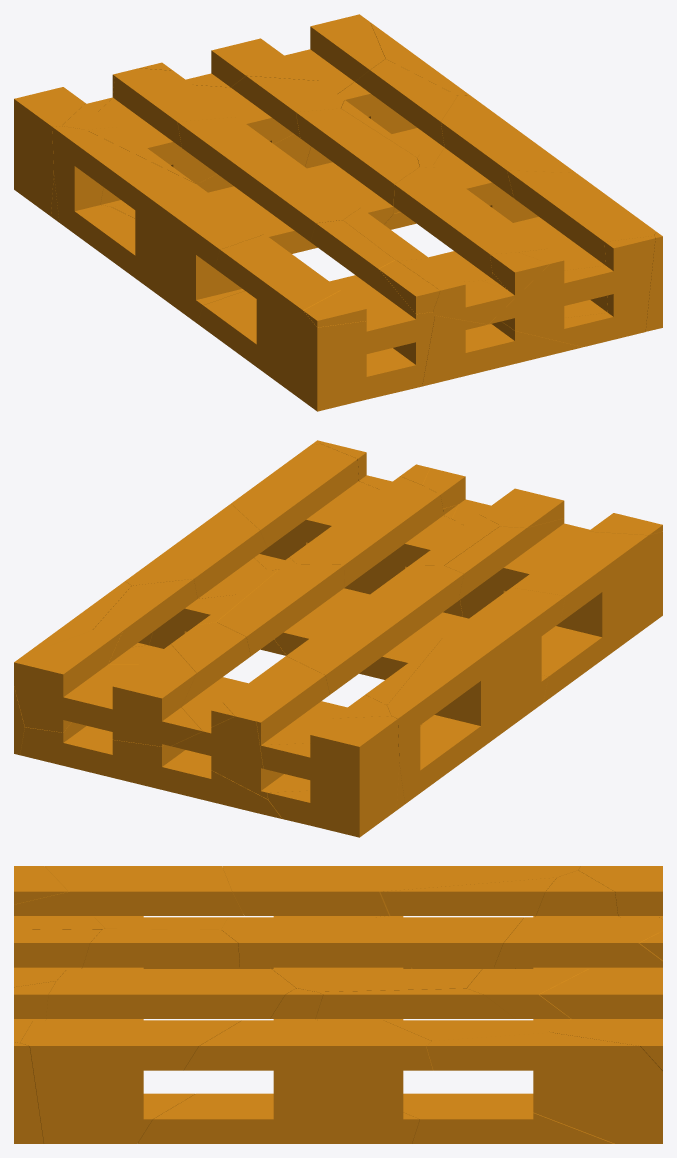
Rendered from PalletCellCrack01.fbx.
3 views of the same model, one above another, from view 1: azimuth 30°, elevation 25°; view 2: azimuth 150°, elevation 25°; view 3: azimuth 270°, elevation 25° (orthographic). The views are drawn at different scales.
Visible parts, largest first — view 1: Pallet_cell.016, Pallet_cell.005, Pallet_cell.010, Pallet_cell.002, Pallet_cell.003, Pallet_cell.007, Pallet_cell.006, Pallet_cell.015, Pallet_cell.014, Pallet_cell, Pallet_cell.012, Pallet_cell.013 (+5 smaller); view 2: Pallet_cell.002, Pallet_cell.016, Pallet_cell.010, Pallet_cell.005, Pallet_cell.003, Pallet_cell.015, Pallet_cell.012, Pallet_cell.004, Pallet_cell.006, Pallet_cell.014, Pallet_cell.013, Pallet_cell.011 (+3 smaller); view 3: Pallet_cell.002, Pallet_cell.006, Pallet_cell.010, Pallet_cell.011, Pallet_cell.014, Pallet_cell.003, Pallet_cell.016, Pallet_cell.005, Pallet_cell.015, Pallet_cell.013, Pallet_cell.012, Pallet_cell.009 (+3 smaller).
Part boxes in pixels (x1,y1,x2,y2): Pallet_cell.016: [197, 220, 434, 411]; Pallet_cell.005: [52, 126, 264, 323]; Pallet_cell.010: [86, 108, 419, 253]; Pallet_cell.002: [343, 167, 655, 330]; Pallet_cell.003: [51, 68, 344, 222]; Pallet_cell.007: [482, 236, 655, 346]; Pallet_cell.006: [417, 95, 575, 232]; Pallet_cell.015: [186, 14, 385, 94]; Pallet_cell.014: [305, 59, 457, 168]; Pallet_cell: [422, 315, 582, 386]; Pallet_cell.012: [14, 73, 116, 216]; Pallet_cell.013: [398, 252, 549, 324]; Pallet_cell.002: [231, 443, 499, 594]; Pallet_cell.016: [444, 518, 662, 702]; Pallet_cell.010: [217, 564, 468, 705]; Pallet_cell.005: [387, 587, 565, 803]; Pallet_cell.003: [171, 622, 404, 810]; Pallet_cell.015: [14, 630, 202, 746]; Pallet_cell.012: [256, 716, 399, 837]; Pallet_cell.004: [20, 722, 282, 818]; Pallet_cell.006: [125, 504, 296, 647]; Pallet_cell.014: [92, 569, 286, 664]; Pallet_cell.013: [422, 468, 539, 525]; Pallet_cell.011: [14, 581, 131, 755]; Pallet_cell.002: [20, 929, 295, 1143]; Pallet_cell.006: [137, 988, 433, 1143]; Pallet_cell.010: [221, 877, 556, 991]; Pallet_cell.011: [426, 1032, 662, 1143]; Pallet_cell.014: [315, 988, 614, 1143]; Pallet_cell.003: [467, 870, 662, 1031]; Pallet_cell.016: [14, 866, 270, 968]; Pallet_cell.005: [222, 866, 580, 968]; Pallet_cell.015: [535, 969, 662, 1070]; Pallet_cell.013: [14, 929, 101, 987]; Pallet_cell.012: [578, 866, 662, 919]; Pallet_cell.009: [14, 1042, 43, 1143].
Size of the model in its own units: 395 by 99.76 by 600.
